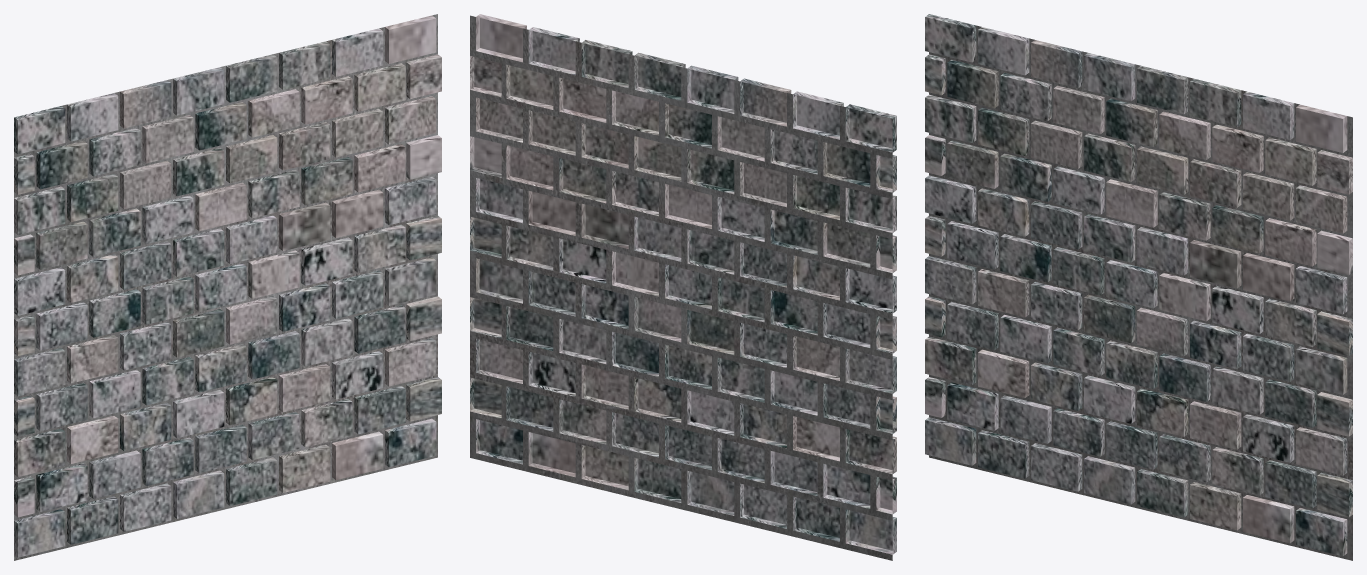
File: Pared_028.fbx
3 views of the same model, side by side, from view 1: azimuth 30°, elevation 25°; view 2: azimuth 150°, elevation 25°; view 3: azimuth 330°, elevation 25° (orthographic).
Parts seen in each view (by area): view 1: Plane; view 2: Plane; view 3: Plane.
Part boxes in pixels (bbox=[...]): Plane: bbox=[14, 14, 441, 560]; Plane: bbox=[470, 14, 896, 560]; Plane: bbox=[925, 14, 1352, 560].
Bounding box in the file's own units: 600 × 600 × 9.99.
